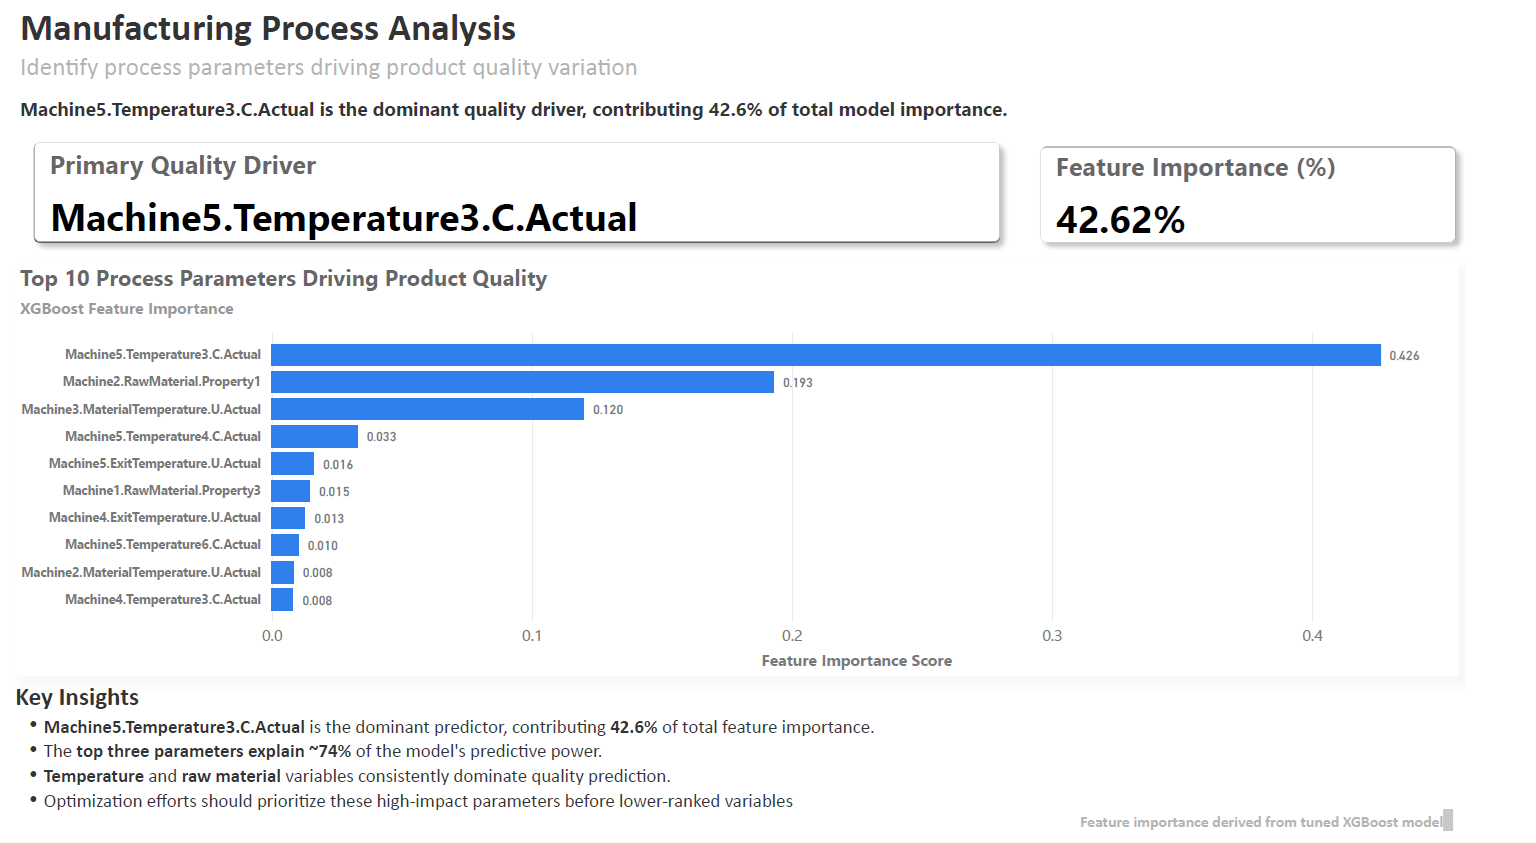

The dashboard page shown, as its layout file describes it:
{"tool":"powerbi","page":{"name":"Process Analysis","canvas":[1280,720],"ordinal":1},"visuals":[{"type":"textbox","box":[9.8,9.8,687.1,193.5],"z":0},{"type":"clusteredBarChart","title":"Top 10 Process Parameters Driving Product Quality","fields":{"Category":["feature_importance.Feature"],"Y":["Sum(feature_importance.Importance)"]},"box":[9.8,232.8,1222.8,350.6],"z":1000},{"type":"cardVisual","fields":{"Data":["feature_importance.Top Driver"]},"box":[9.8,86.9,852.6,145.8],"z":2000},{"type":"cardVisual","fields":{"Data":["feature_importance.Top Driver Importance"]},"box":[862.4,117.8,385.6,115],"z":3000},{"type":"textbox","box":[5.6,583.3,1255,136],"z":4000},{"type":"textbox","box":[831.6,691.3,401.1,28],"z":4001}]}

Visuals, with their boxes in screenshot pixels (x1, y1, x2, y2), scaled from the page's 1280x720 canvas onto the 1536x843 screenshot:
textbox: {"left": 12, "top": 11, "right": 836, "bottom": 238}
"Top 10 Process Parameters Driving Product Quality" clusteredBarChart: {"left": 12, "top": 273, "right": 1479, "bottom": 683}
cardVisual - feature_importance.Top Driver: {"left": 12, "top": 102, "right": 1035, "bottom": 272}
cardVisual - feature_importance.Top Driver Importance: {"left": 1035, "top": 138, "right": 1498, "bottom": 273}
textbox: {"left": 7, "top": 683, "right": 1513, "bottom": 842}
textbox: {"left": 998, "top": 809, "right": 1479, "bottom": 842}
